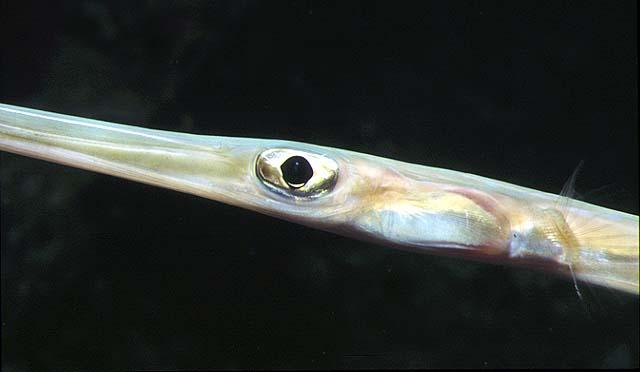Fistularia commersonii: (1, 100, 638, 301)
